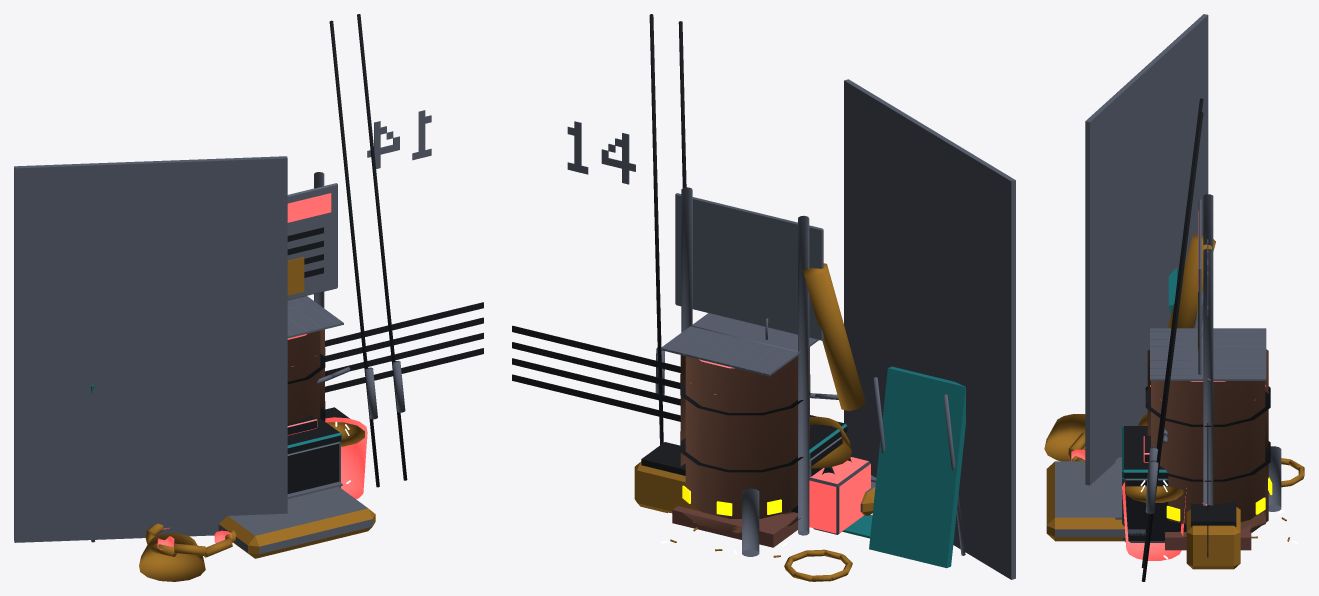
Rendered from room-detail-w3-out-props.glb.
The picture shows the model from 3 angles, left to right: view 1: azimuth 30°, elevation 25°; view 2: azimuth 150°, elevation 25°; view 3: azimuth 270°, elevation 25°; orthographic projection. The views are drawn at different scales.
Parts seen in each view (by area): view 1: rd-w3-locker14, rd-w3-genzo, rd-w3-ladder-board, rd-w3-barrel, rd-w3-tower-door, rd-w3-barrel-lod; view 2: rd-w3-locker14, rd-w3-genzo, rd-w3-ladder-board, rd-w3-barrel, rd-w3-barrel-lod, rd-w3-landing, rd-w3-tower-door; view 3: rd-w3-locker14, rd-w3-barrel, rd-w3-genzo, rd-w3-barrel-lod, rd-w3-landing, rd-w3-ladder-board, rd-w3-tower-door.
Boxes of the visible parts, x1,y1,x2,y2 form: rd-w3-locker14: (14, 110, 483, 581); rd-w3-genzo: (91, 14, 407, 557); rd-w3-ladder-board: (287, 172, 350, 384); rd-w3-barrel: (287, 298, 336, 422); rd-w3-tower-door: (325, 417, 367, 499); rd-w3-barrel-lod: (287, 296, 343, 410); rd-w3-locker14: (512, 79, 1015, 579); rd-w3-genzo: (649, 14, 965, 568); rd-w3-ladder-board: (675, 187, 838, 535); rd-w3-barrel: (667, 315, 810, 544); rd-w3-barrel-lod: (660, 313, 818, 547); rd-w3-landing: (634, 442, 872, 581); rd-w3-tower-door: (668, 416, 870, 557); rd-w3-locker14: (1044, 14, 1215, 557); rd-w3-barrel: (1145, 331, 1272, 549); rd-w3-genzo: (1068, 98, 1203, 581); rd-w3-barrel-lod: (1150, 328, 1266, 550); rd-w3-landing: (1186, 446, 1304, 569); rd-w3-ladder-board: (1162, 194, 1213, 505); rd-w3-tower-door: (1122, 413, 1289, 560).
Size of the model in its own units: 2.58 by 2.35 by 1.21.
1 material, 1 textured.
